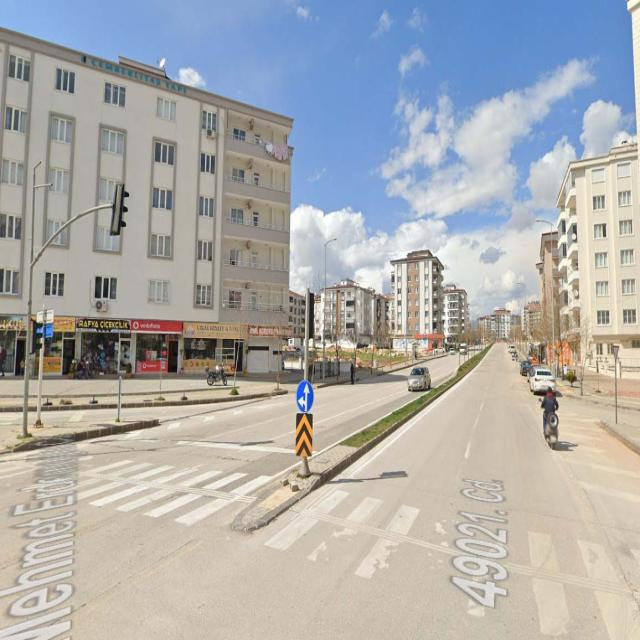ilerisol: (297, 381, 313, 412)
